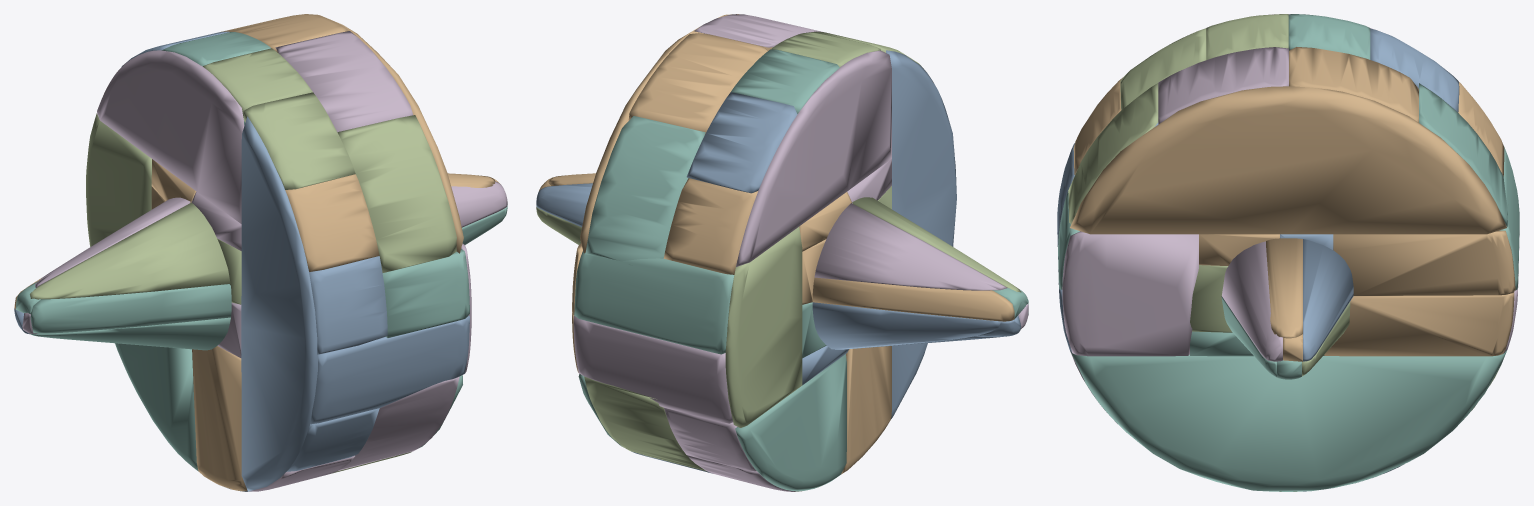
3 views of the same model, side by side, from view 1: azimuth 30°, elevation 25°; view 2: azimuth 150°, elevation 25°; view 3: azimuth 270°, elevation 25° (orthographic).
Bounding box in the file's own units: 2.02 × 1.66 × 1.7.
